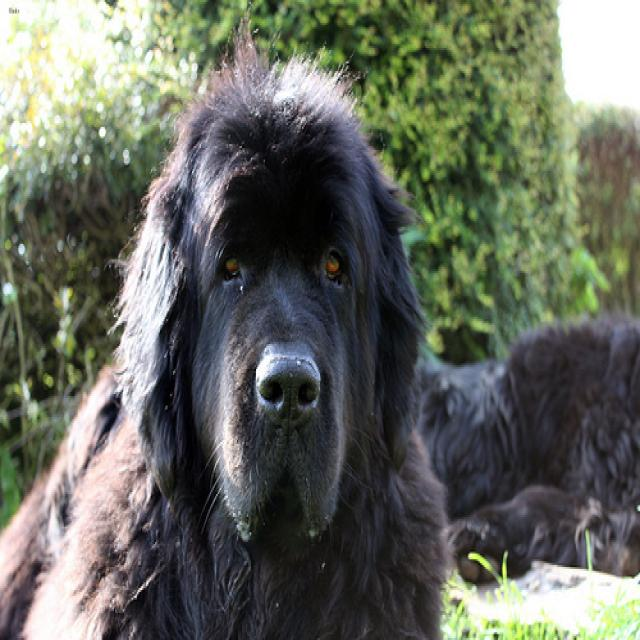dog-newfoundland: (1, 2, 454, 636)
